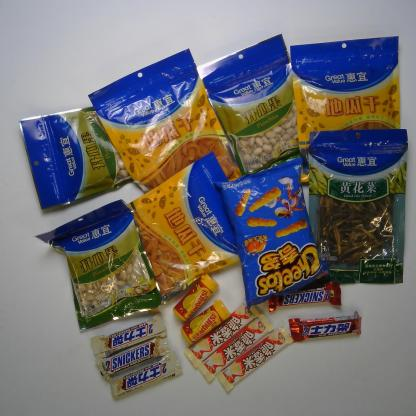Candy: (180, 300, 230, 345), (173, 274, 219, 321)
Chocolate: (198, 312, 274, 383), (217, 323, 294, 393), (183, 300, 262, 368), (91, 314, 167, 366), (109, 351, 182, 401), (94, 334, 170, 380), (266, 280, 343, 312), (288, 311, 362, 342)
Dried Food: (308, 130, 409, 286)
Dried Fruit: (87, 49, 247, 217), (124, 152, 257, 304), (197, 34, 320, 184), (33, 199, 162, 332), (290, 36, 404, 186), (20, 90, 154, 210)
Puffed Food: (212, 155, 329, 311)
